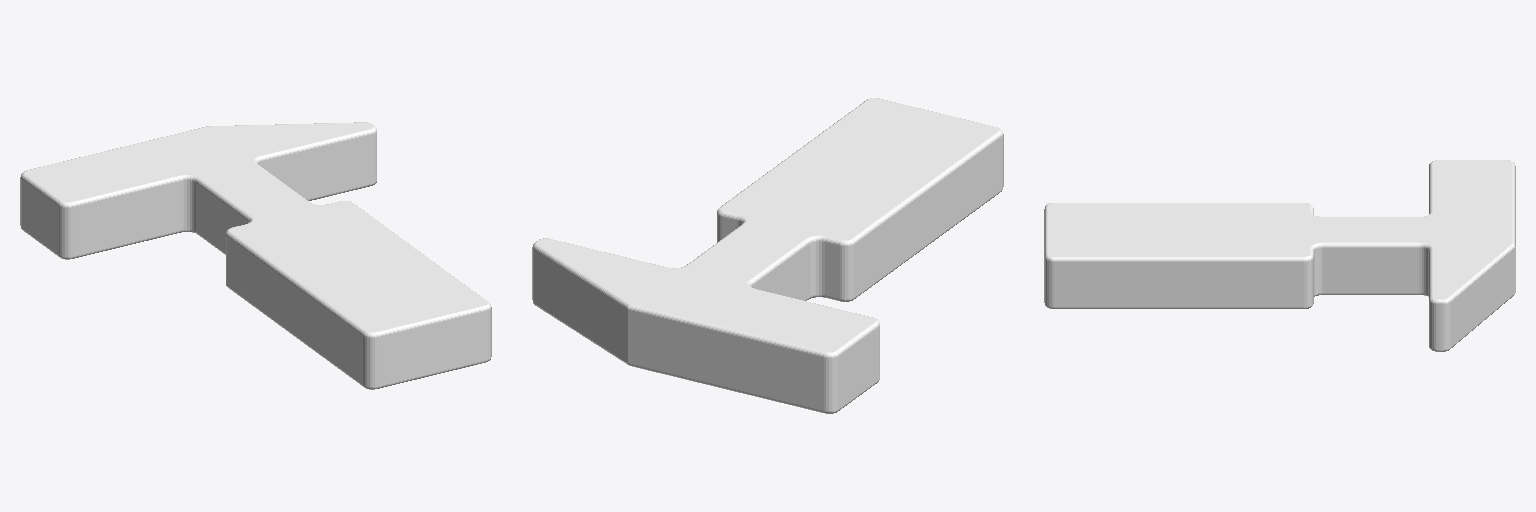
robot.urdf — hammer2.obj:
<robot name="hammer2.obj">
	<link name="_name">
		<visual>
			<origin xyz="0.004227345555278175 -0.012788287477729709 -0.014999999999999358" rpy="0 0 0" />
			<geometry>
				<mesh filename="hammer2.obj" scale="0.001 0.001 0.001" />
			</geometry>
			<material name="texture">
				<color rgba="1.0 1.0 1.0 1.0" />
			</material>
		</visual>
		<collision>
			<geometry>
				<mesh filename="hammer2_vhacd.obj" scale="0.001 0.001 0.001" />
			</geometry>
		<origin xyz="0.004227345555278175 -0.012788287477729709 -0.014999999999999358" rpy="0 0 0" /></collision>
		<inertial>
			<mass value="0.3" />
			<inertia ixx="0.6" ixy="0.0" ixz="0.0" iyy="0.5" iyz="-0.0" izz="0.08" />
		</inertial>
	</link>
</robot>

--- Render facts (derived) ---
3 views of the same robot in one strip: view 1: azimuth 30°, elevation 25°; view 2: azimuth 150°, elevation 25°; view 3: azimuth 270°, elevation 25° (orthographic).
Model hammer2.obj with 1 links and 0 joints (none), rooted at _name, posed all joints at 0.
Links seen in each view (by area): view 1: _name; view 2: _name; view 3: _name.
Link boxes in pixels (box(x1,y1,x2,y2)): _name: box(20, 122, 491, 389); _name: box(532, 98, 1003, 413); _name: box(1044, 160, 1515, 351).
Bounding box of the posed robot: 0.175 × 0.245 × 0.03 m (x, y, z).
1 mesh visuals loaded from 1 distinct referenced files (1 OBJ).